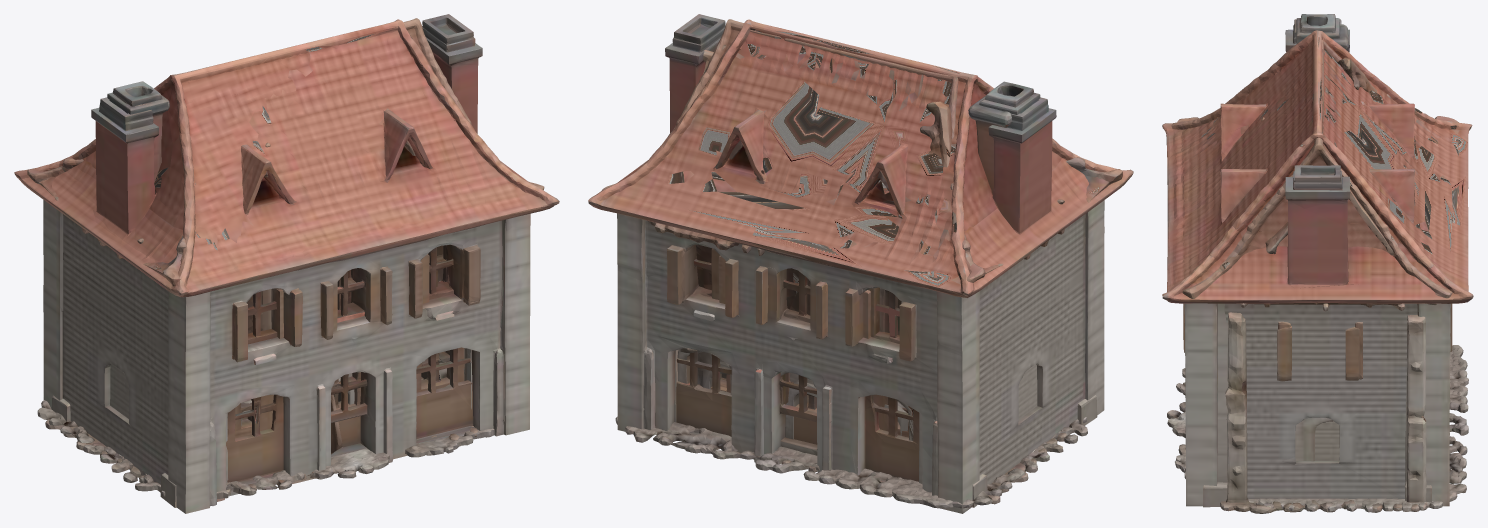
Rendered from fr_shop_house_1_states.glb.
The picture shows the model from 3 angles, left to right: view 1: azimuth 30°, elevation 25°; view 2: azimuth 150°, elevation 25°; view 3: azimuth 270°, elevation 25°; orthographic projection. The views are drawn at different scales.
Parts seen in each view (by area): view 1: House_0_undam, House_1, House_3_heavy, House_2; view 2: House_0_undam, House_1, House_3_heavy, House_2; view 3: House_0_undam, House_1, House_2, House_3_heavy.
Boxes of the visible parts, x1,y1,x2,y2 form: House_0_undam: (14, 14, 559, 513); House_1: (27, 18, 544, 507); House_3_heavy: (37, 361, 494, 498); House_2: (45, 95, 477, 495); House_0_undam: (588, 14, 1133, 513); House_1: (602, 19, 1122, 507); House_3_heavy: (615, 348, 1087, 508); House_2: (647, 50, 1067, 504); House_0_undam: (1162, 19, 1473, 506); House_1: (1177, 14, 1458, 507); House_2: (1183, 24, 1436, 513); House_3_heavy: (1167, 345, 1468, 512).
Size of the model in its own units: 1 by 0.9374 by 0.7627.
4 materials, 4 textured.
